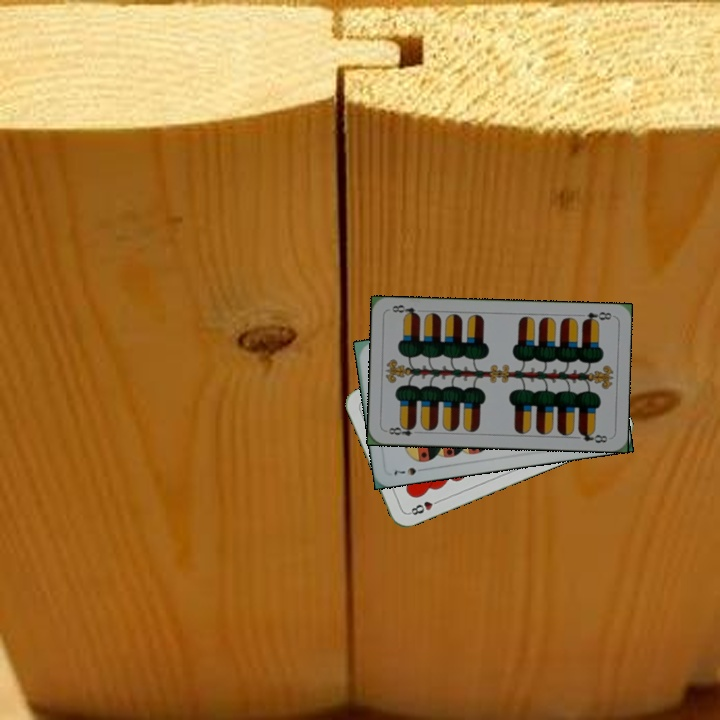E8: (382, 421, 423, 438), (578, 308, 614, 326)
H8: (405, 495, 443, 518)
S7: (390, 463, 428, 478)
